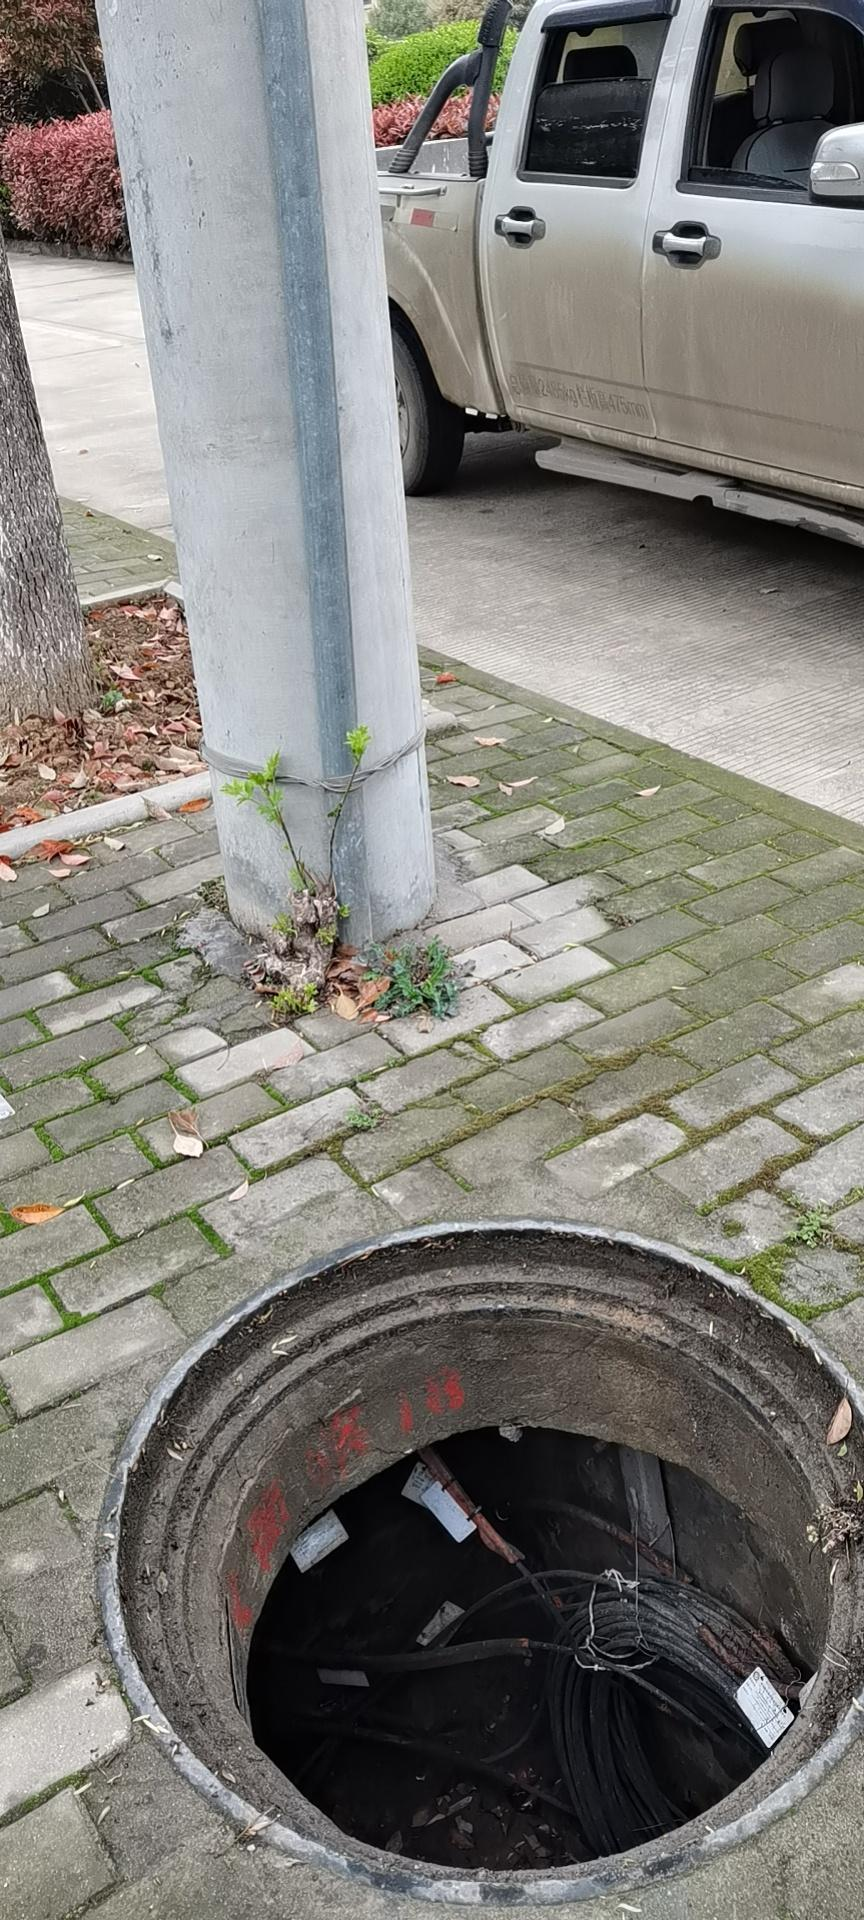wellcover: (102, 1231, 864, 1883)
